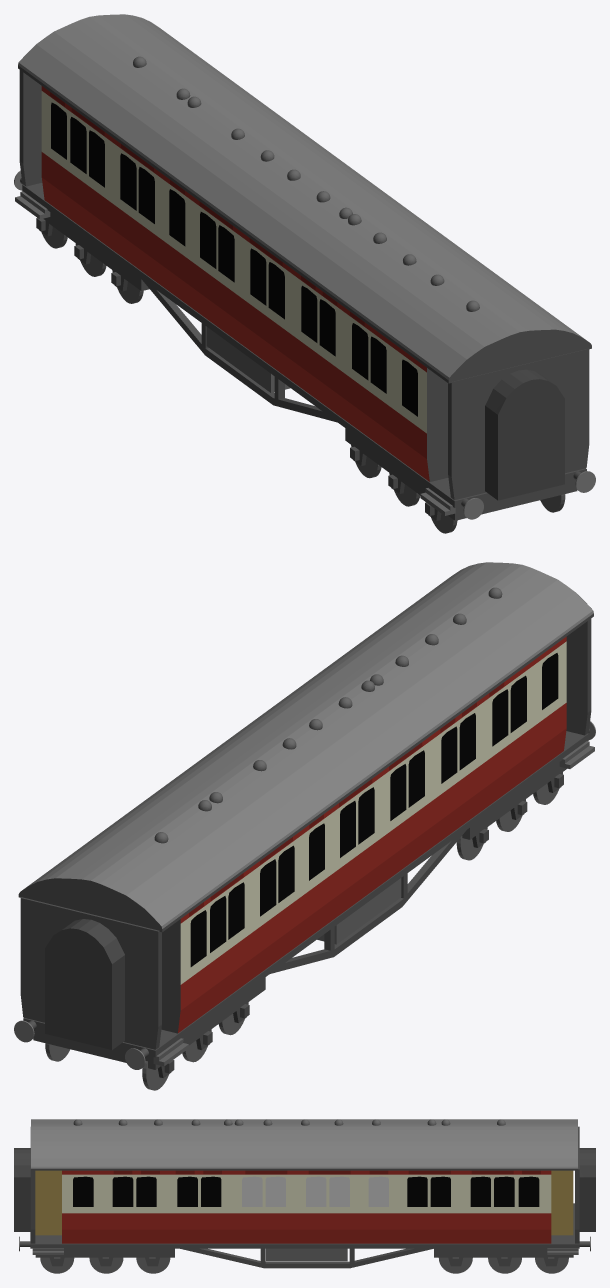
File: lnwr-65ft-6in-diner-non-clerestory-br.dae
The picture shows the model from 3 angles, top to bottom: view 1: azimuth 30°, elevation 25°; view 2: azimuth 150°, elevation 25°; view 3: azimuth 270°, elevation 25°; orthographic projection. The views are drawn at different scales.
Visible parts, largest first — view 1: Cube_001 (×2), Plane_002_001, Cube_010, Plane_002_004, Plane_002, Plane_002_005, Cube_020_000, Cube_020_001, Plane_159, Plane_158, Plane_152, Plane_144 (+13 smaller); view 2: Cube_001 (×2), Plane_002_001, Cube_011, Plane_002_005, Plane_002, Plane_002_004, Cube_020_001, Cube_020_000, Plane_162, Plane_161, Plane_145, Plane_144 (+13 smaller); view 3: Cube_001 (×2), Plane_002_001, Plane_002, Cube_003, Cube_002, Cube_011, Cube_010, Cube_020_001, Cube_020_000, Cube_004, Plane_071, Plane_052 (+25 smaller).
Boxes of the visible parts, box(x1,y1,x2,y2) form: Cube_001 (×2): box(18, 14, 591, 392); Plane_002_001: box(41, 86, 448, 481); Cube_010: box(485, 369, 564, 500); Plane_002_004: box(448, 348, 589, 500); Plane_002: box(22, 183, 586, 507); Plane_002_005: box(19, 70, 42, 186); Cube_020_000: box(345, 428, 577, 520); Cube_020_001: box(43, 212, 149, 290); Plane_159: box(138, 167, 154, 223); Plane_158: box(120, 153, 136, 210); Plane_152: box(218, 225, 234, 282); Plane_144: box(319, 299, 335, 356); Cube_001 (×2): box(18, 562, 593, 944); Plane_002_001: box(161, 636, 566, 1033); Cube_011: box(45, 919, 124, 1049); Plane_002_005: box(20, 897, 161, 1049); Plane_002: box(23, 731, 588, 1057); Plane_002_004: box(566, 618, 591, 735); Cube_020_001: box(33, 977, 265, 1069); Cube_020_000: box(462, 762, 566, 839); Plane_162: box(210, 896, 226, 952); Plane_161: box(228, 882, 244, 939); Plane_145: box(441, 726, 457, 783); Plane_144: box(459, 713, 475, 770); Cube_001 (×2): box(31, 1119, 577, 1261); Plane_002_001: box(62, 1170, 551, 1243); Plane_002: box(30, 1203, 579, 1248); Cube_003: box(35, 1170, 61, 1235); Cube_002: box(551, 1170, 573, 1235); Cube_011: box(579, 1148, 595, 1231); Cube_010: box(14, 1148, 30, 1231); Cube_020_001: box(434, 1248, 573, 1257); Cube_020_000: box(35, 1248, 174, 1257); Cube_004: box(263, 1261, 350, 1268); Plane_071: box(112, 1176, 133, 1206); Plane_052: box(518, 1176, 539, 1206).
Bounding box in the file's own units: 2.21 × 12.01 × 3.07.
